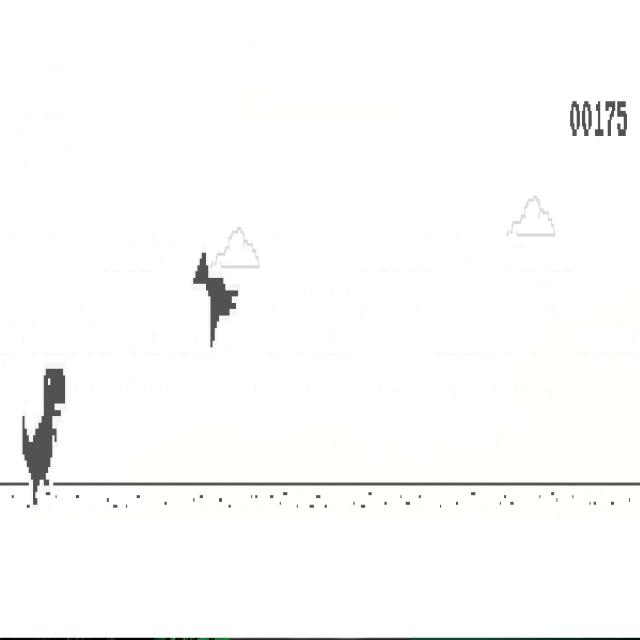dino: (21, 368, 66, 506)
ptero: (193, 250, 239, 350)
